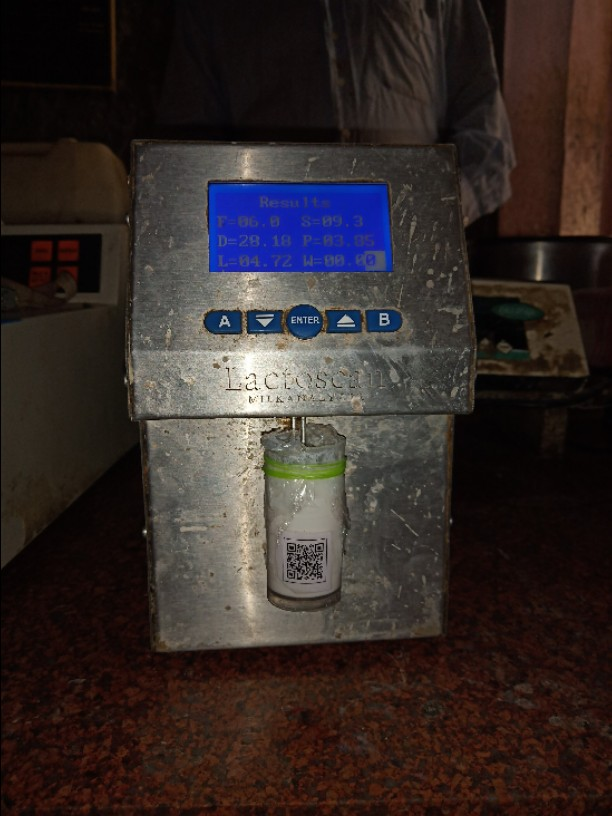lcd: (204, 177, 395, 279)
qr: (282, 539, 332, 587)
